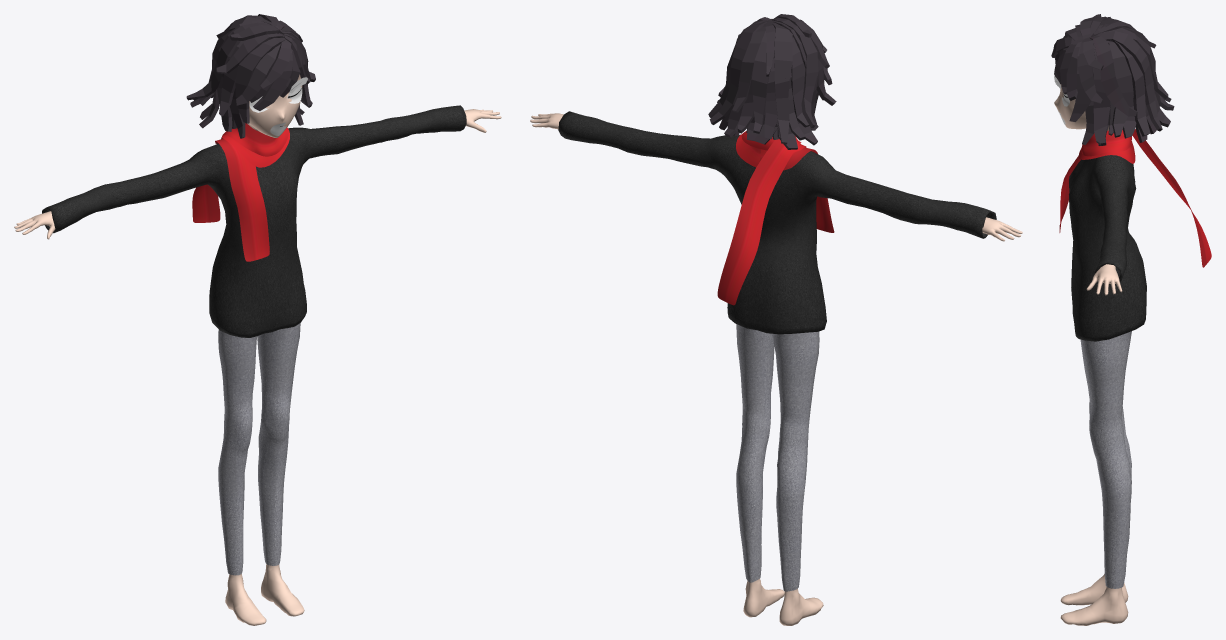
Rendered from girl OBJ.obj.
The picture shows the model from 3 angles, left to right: view 1: azimuth 30°, elevation 25°; view 2: azimuth 150°, elevation 25°; view 3: azimuth 270°, elevation 25°; orthographic projection.
Parts seen in each view (by area): view 1: Top_pERSONAJE.004, bot_pERSONAJE.005, hair_Hair001.baked.001, scarf_Cube, body_pERSONAJE.002, Head_Hair001.baked.005; view 2: Top_pERSONAJE.004, bot_pERSONAJE.005, hair_Hair001.baked.001, scarf_Cube, body_pERSONAJE.002; view 3: Top_pERSONAJE.004, hair_Hair001.baked.001, bot_pERSONAJE.005, body_pERSONAJE.002, scarf_Cube, Head_Hair001.baked.005.
Boxes of the visible parts, bbox=[...] form: Top_pERSONAJE.004: bbox=[42, 105, 466, 337]; bot_pERSONAJE.005: bbox=[218, 323, 300, 575]; hair_Hair001.baked.001: bbox=[186, 14, 315, 138]; scarf_Cube: bbox=[192, 123, 289, 261]; body_pERSONAJE.002: bbox=[14, 109, 501, 625]; Head_Hair001.baked.005: bbox=[249, 74, 302, 137]; Top_pERSONAJE.004: bbox=[558, 111, 996, 334]; bot_pERSONAJE.005: bbox=[736, 324, 819, 591]; hair_Hair001.baked.001: bbox=[708, 14, 836, 149]; scarf_Cube: bbox=[717, 131, 834, 305]; body_pERSONAJE.002: bbox=[530, 113, 1022, 625]; Top_pERSONAJE.004: bbox=[1069, 155, 1146, 341]; hair_Hair001.baked.001: bbox=[1051, 14, 1174, 145]; bot_pERSONAJE.005: bbox=[1080, 331, 1131, 588]; body_pERSONAJE.002: bbox=[1060, 125, 1128, 625]; scarf_Cube: bbox=[1059, 129, 1211, 267]; Head_Hair001.baked.005: bbox=[1054, 84, 1086, 129].
Size of the model in its own units: 1.39 by 1.61 by 0.3962.
